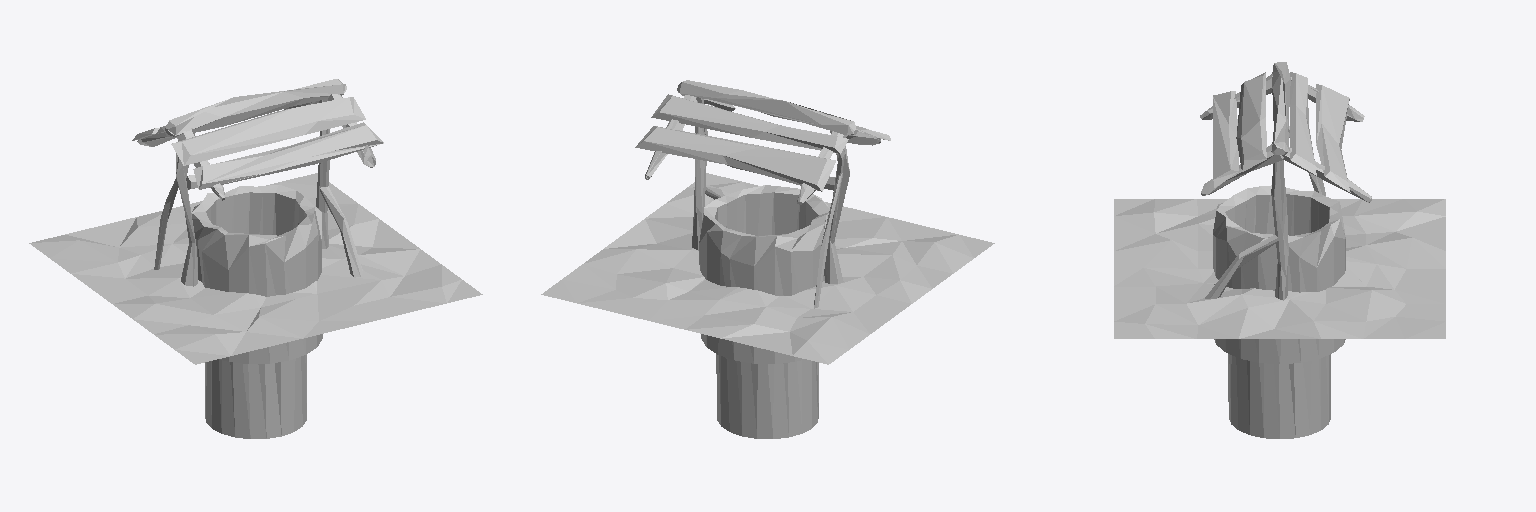
File: Well.obj
3 renders of one model, left to right at view 1: azimuth 30°, elevation 25°; view 2: azimuth 150°, elevation 25°; view 3: azimuth 270°, elevation 25°, orthographic.
Parts seen in each view (by area): view 1: ###; view 2: ###; view 3: ###.
Boxes of the visible parts, x1,y1,x2,y2 form: ###: [29, 79, 482, 438]; ###: [541, 80, 994, 438]; ###: [1114, 62, 1445, 438].
Size of the model in its own units: 4 by 4.3 by 4.